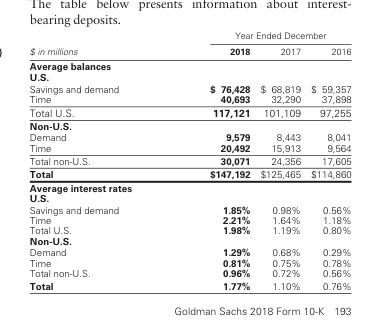table: (28, 28, 350, 291)
table column: (28, 28, 163, 291), (163, 28, 254, 291), (254, 28, 305, 291), (305, 28, 350, 291)
table column header: (28, 28, 350, 57)
table projected row header: (28, 57, 350, 71), (28, 119, 350, 131), (28, 180, 350, 192), (28, 71, 350, 82), (28, 192, 350, 203), (28, 235, 350, 246)
table row: (28, 42, 350, 57), (28, 28, 350, 42), (28, 57, 350, 71), (28, 105, 350, 119), (28, 166, 350, 180), (28, 153, 350, 166), (28, 93, 350, 105), (28, 119, 350, 131), (28, 180, 350, 192), (28, 267, 350, 279), (28, 279, 350, 291), (28, 71, 350, 82), (28, 82, 350, 93), (28, 131, 350, 142), (28, 142, 350, 153), (28, 192, 350, 203), (28, 203, 350, 214), (28, 224, 350, 235), (28, 235, 350, 246), (28, 246, 350, 257), (28, 214, 350, 224), (28, 257, 350, 267)
table spanning cell: (28, 28, 163, 57), (163, 28, 350, 42)
